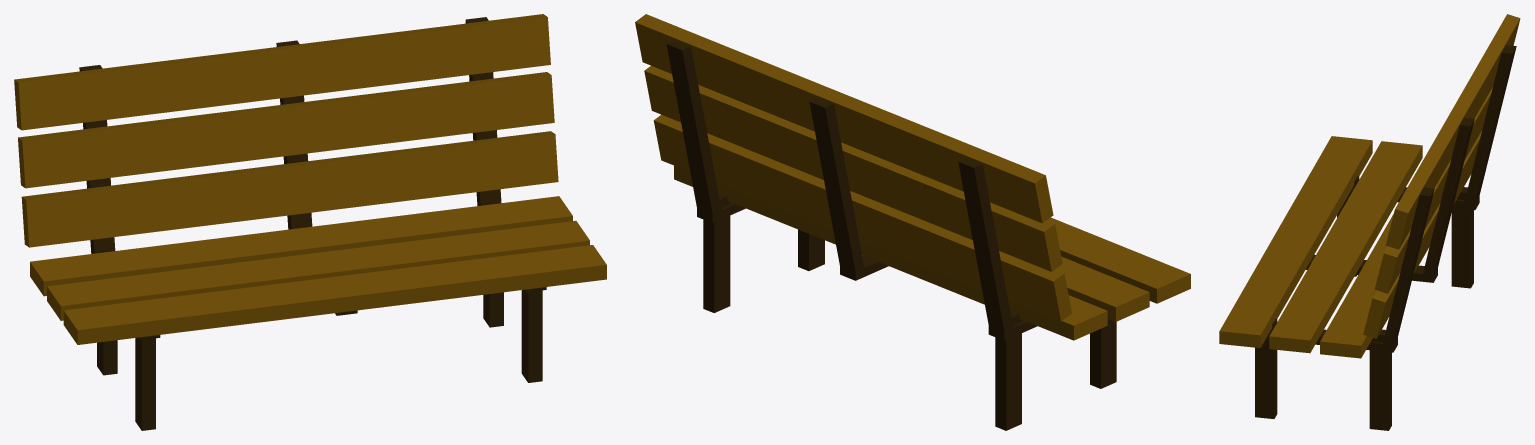
The model's file is Bench.fbx.
3 views of the same model, side by side, from view 1: azimuth 30°, elevation 25°; view 2: azimuth 150°, elevation 25°; view 3: azimuth 270°, elevation 25° (orthographic). The views are drawn at different scales.
Visible parts, largest first — view 1: PlayPark:pCube48; view 2: PlayPark:pCube48; view 3: PlayPark:pCube48.
Part boxes in pixels (x1=…): PlayPark:pCube48: x1=14, y1=14, x2=606, y2=430; PlayPark:pCube48: x1=635, y1=14, x2=1190, y2=430; PlayPark:pCube48: x1=1219, y1=14, x2=1520, y2=430.
Size of the model in its own units: 31.81 by 16.9 by 18.87.
